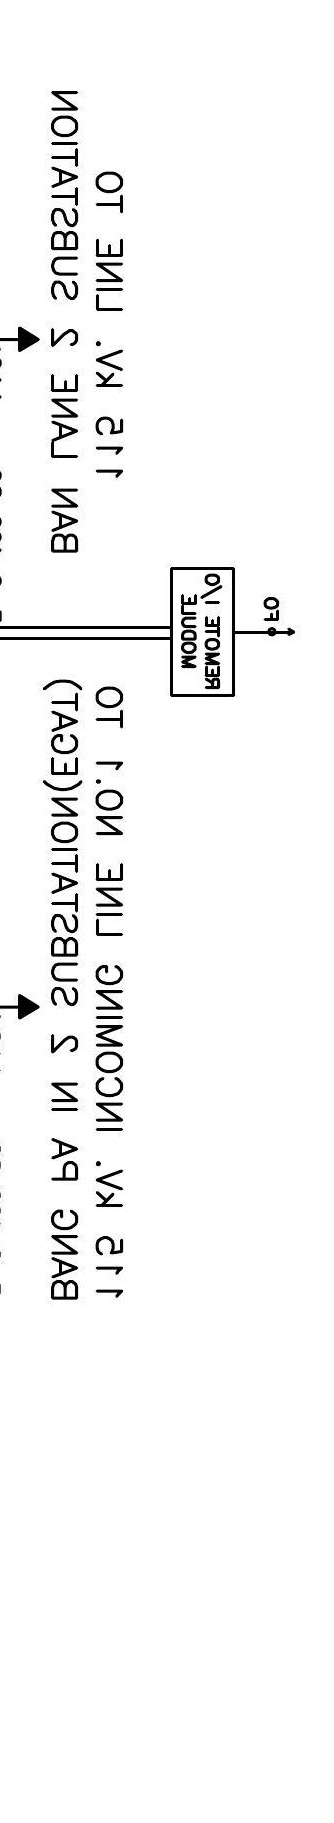remote_io_module: (170, 567, 235, 698)
